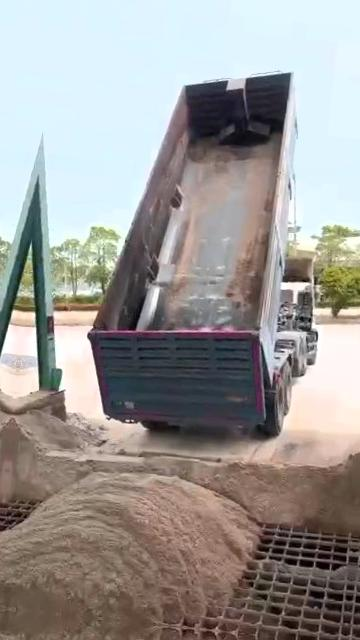sand: (4, 410, 360, 532), (0, 473, 258, 623), (226, 155, 276, 305), (258, 559, 352, 587)
